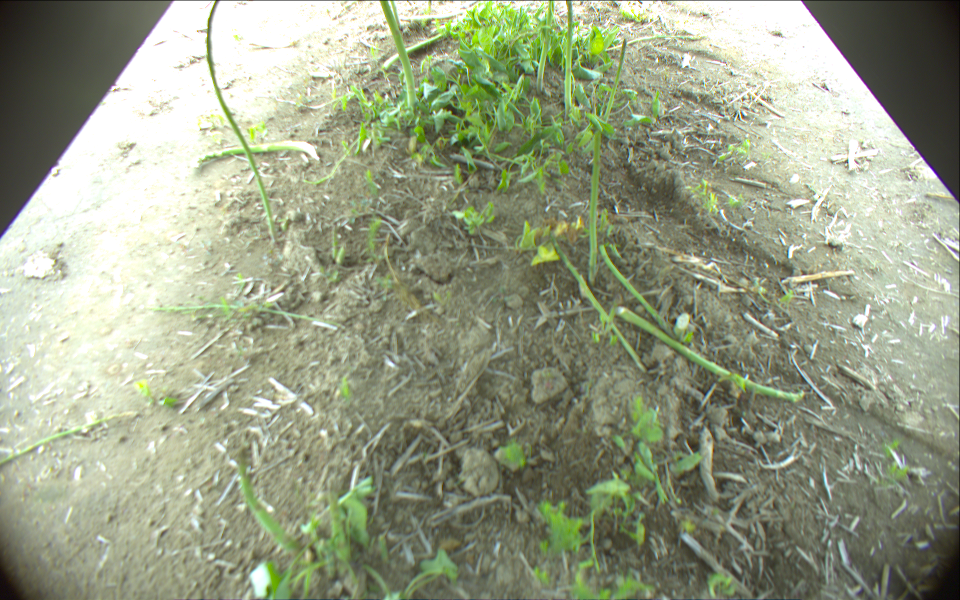aspa: (617, 305, 807, 404), (204, 1, 276, 243), (550, 239, 647, 374), (1, 410, 138, 469), (238, 448, 302, 560), (600, 245, 674, 341), (153, 306, 349, 331), (381, 1, 417, 109), (190, 140, 319, 166), (382, 31, 452, 71), (586, 124, 602, 284), (601, 38, 630, 119), (605, 33, 705, 54), (536, 1, 556, 90), (562, 1, 573, 121), (328, 486, 345, 549), (387, 1, 406, 30)
